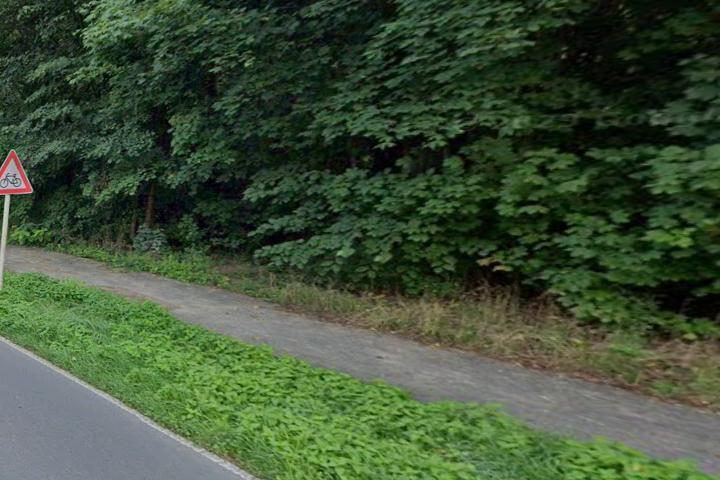traffic_sign: (1, 149, 33, 198)
